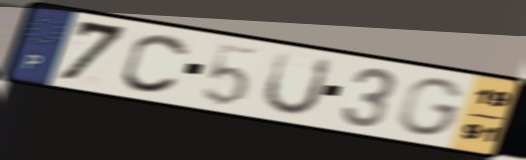3: (340, 65, 398, 128)
5: (200, 41, 262, 108)
7: (54, 18, 131, 84)
C: (119, 31, 193, 96)
G: (395, 75, 469, 139)
U: (259, 49, 337, 117)
